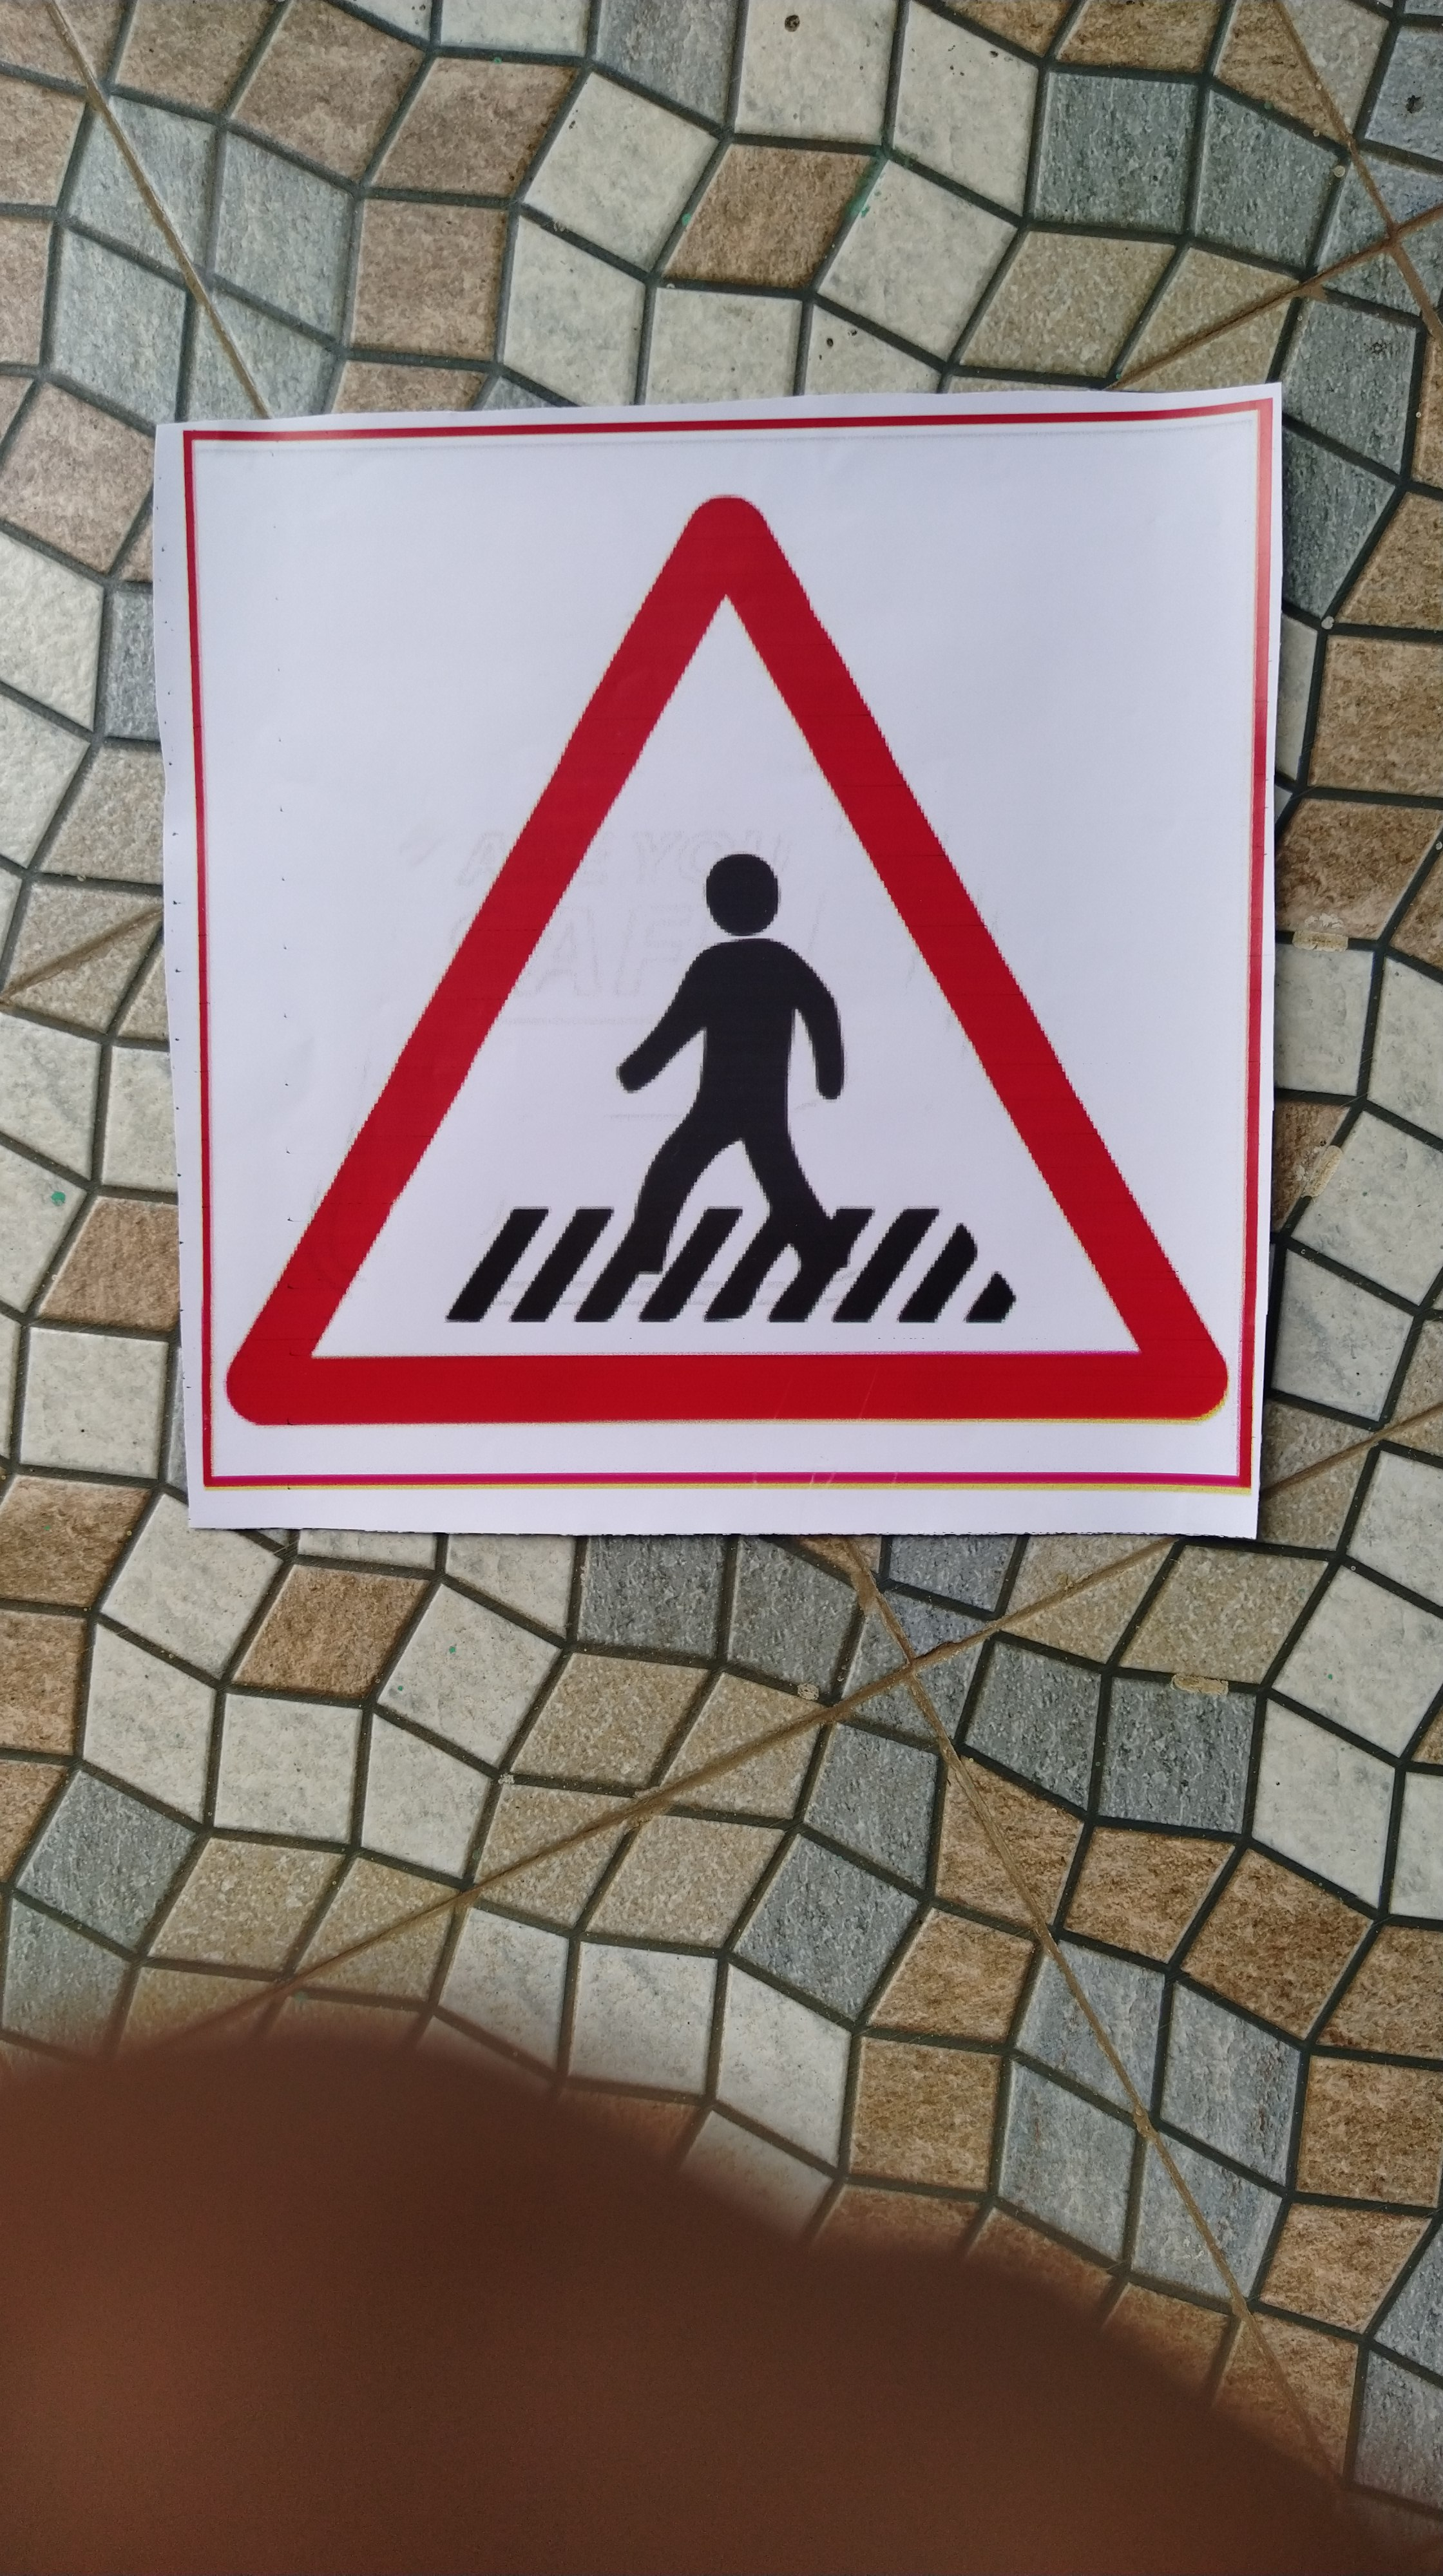pedestrain crossing: (218, 455, 1232, 1484)
